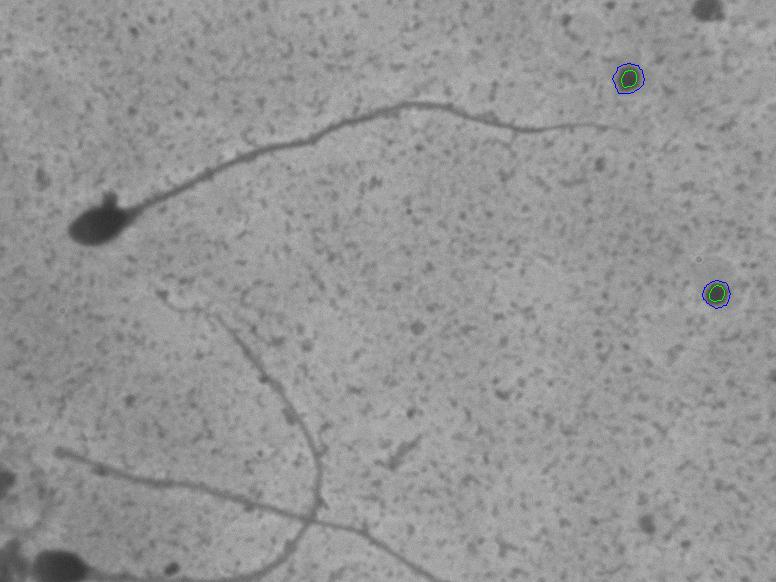Abnormal: (52, 63, 614, 260)
